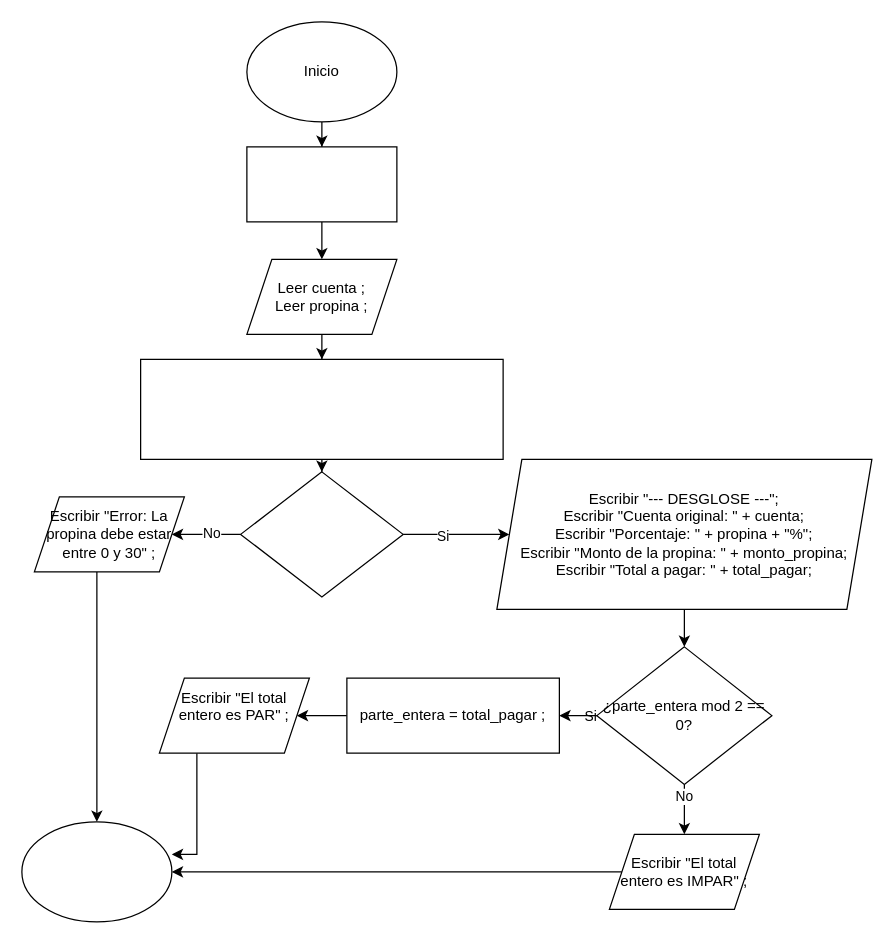
This 894x944 diagram has some shape labels left out. The centre of each missing label's shape, as x and y in pixels:
A = 100 ;: (321,184)
Fin: (96,871)
monto_propina = cuenta * propina / A ; total_pagar = cuenta + monto_propina ;: (321,408)
¿propina >= 0 AND propina <= 30?: (321,534)
